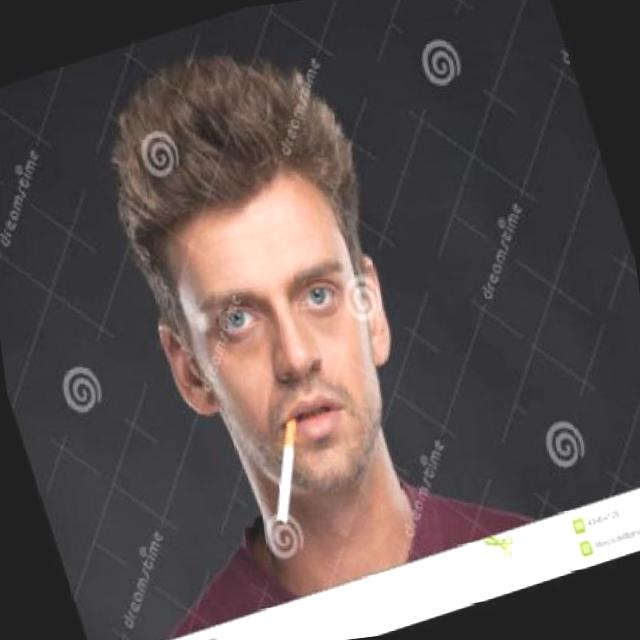cigarette: (248, 412, 334, 536)
